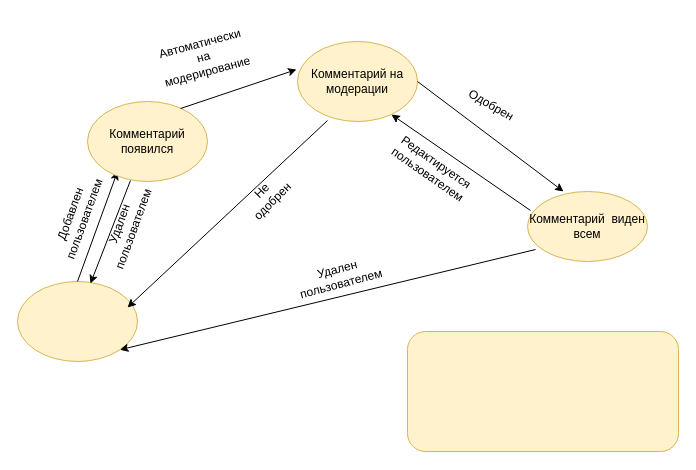
The diagram is 696 pixels wide and 470 high, and some of its shapes have lost their labels. The shapes that lost their labels are listed below. From the top down, each one's centre as x and y in pixels, then its label:
point 77,321: Нет комментария
point 542,391: Анализ перехода состояний системы В качестве объекта - комментарий к сообщению
